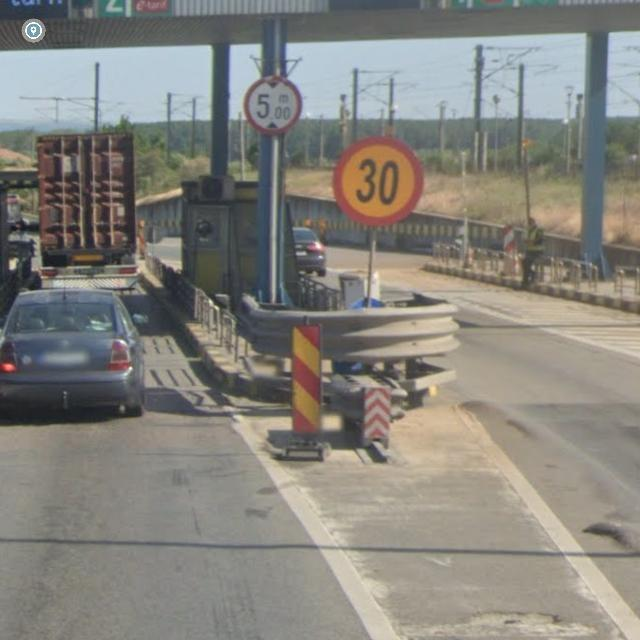forb_speed_over_30: (333, 135, 426, 228)
